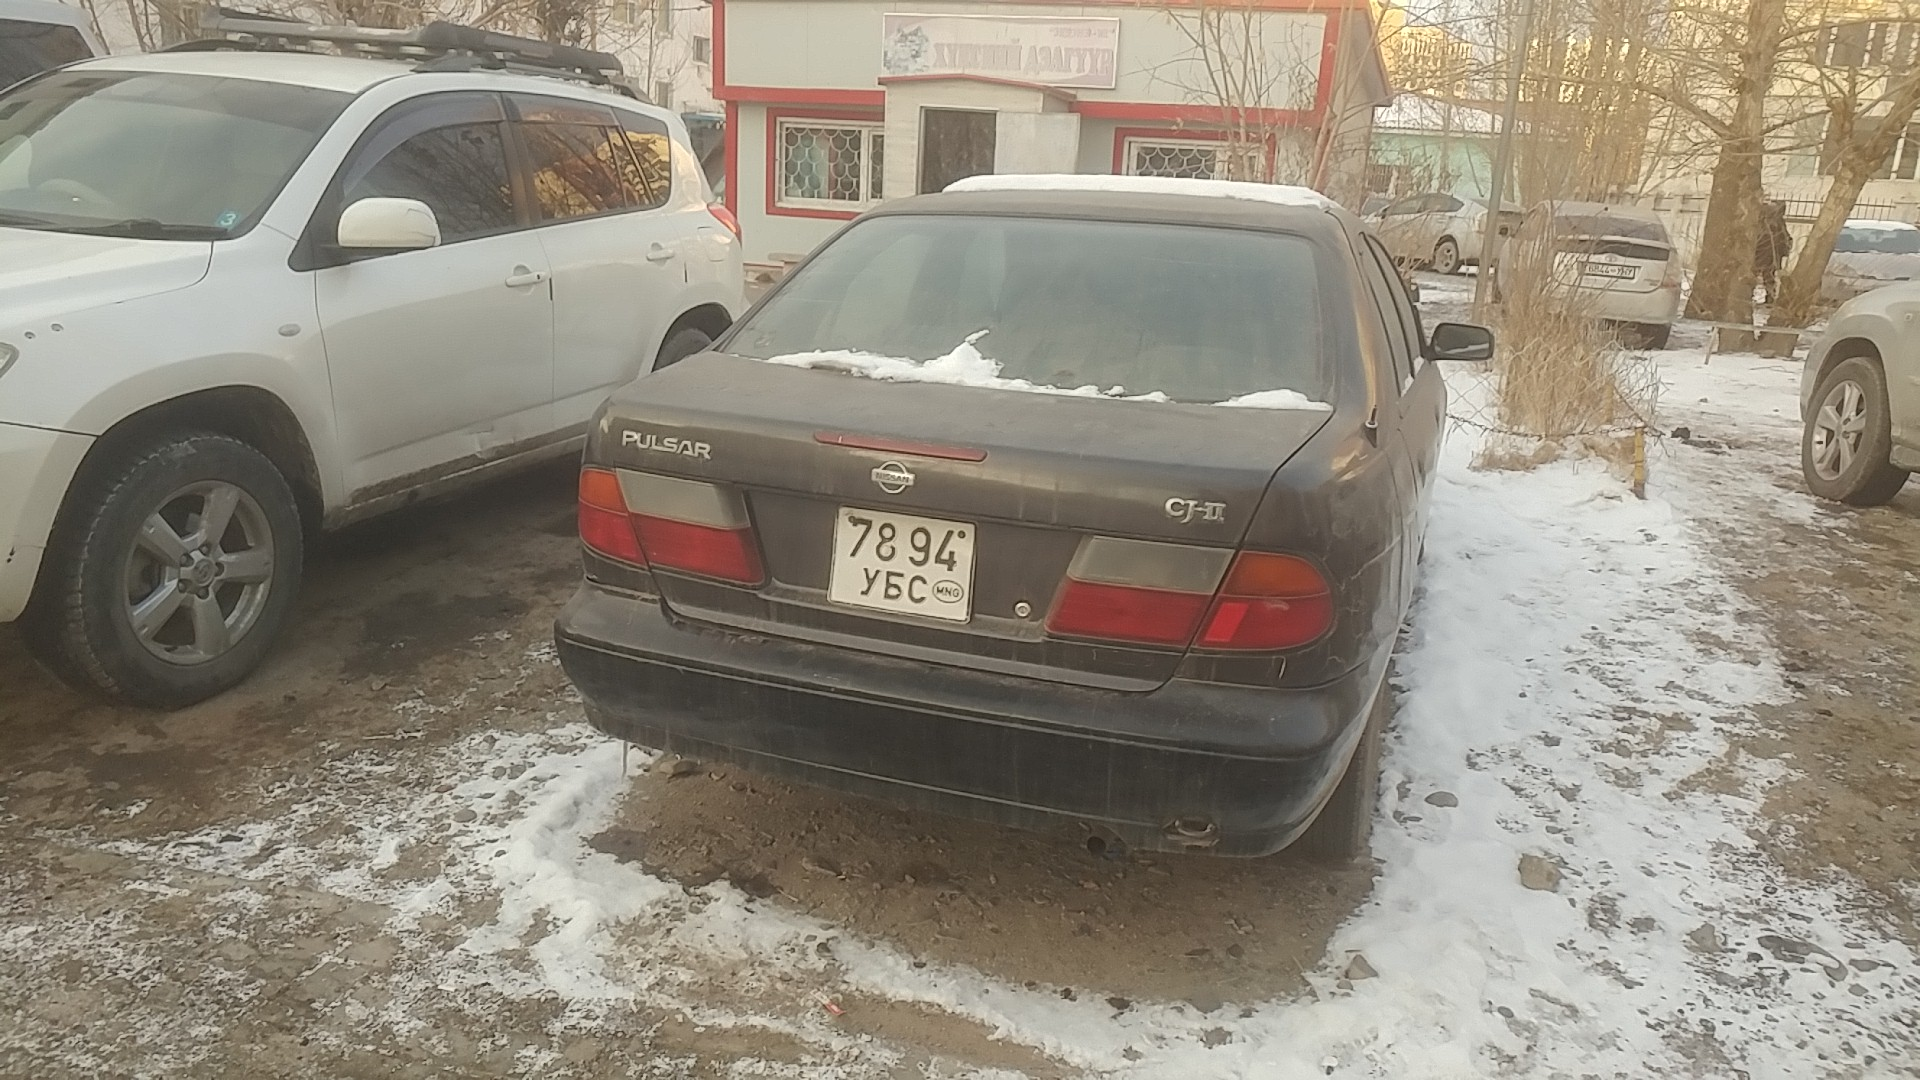4: (933, 527, 959, 573)
7: (848, 516, 874, 558)
8: (875, 522, 898, 562)
9: (908, 526, 932, 567)
b: (881, 570, 906, 601)
plate: (826, 500, 981, 626)
s: (907, 573, 927, 604)
u: (860, 565, 881, 596)
